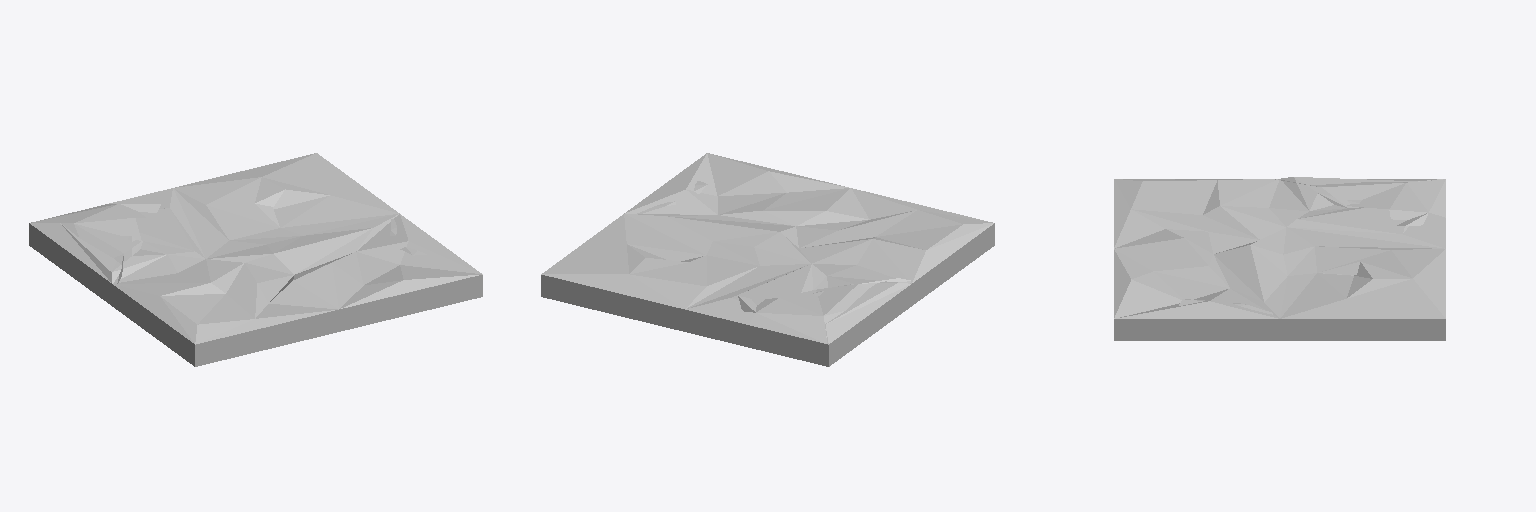
File: piso2.obj
3 renders of one model, left to right at view 1: azimuth 30°, elevation 25°; view 2: azimuth 150°, elevation 25°; view 3: azimuth 270°, elevation 25°, orthographic.
Parts seen in each view (by area): view 1: piso_3:musgo_2piso_3; view 2: piso_3:musgo_2piso_3; view 3: piso_3:musgo_2piso_3.
Part boxes in pixels (bbox=[...]): piso_3:musgo_2piso_3: bbox=[29, 153, 482, 366]; piso_3:musgo_2piso_3: bbox=[541, 153, 994, 366]; piso_3:musgo_2piso_3: bbox=[1114, 177, 1445, 340].
Bounding box in the file's own units: 3.97 × 0.402 × 3.97.